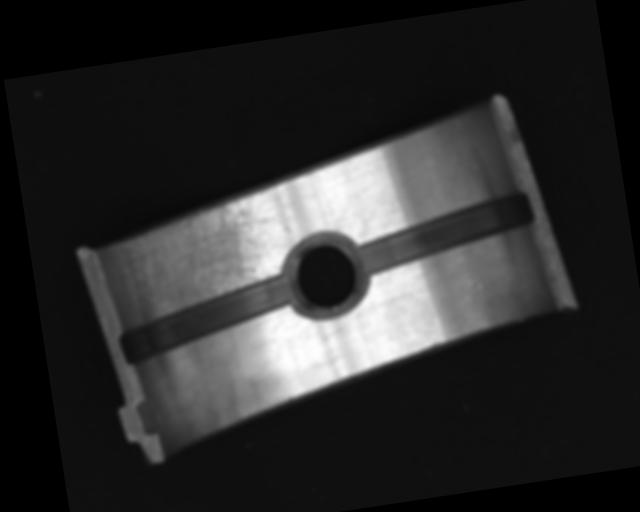gap: (110, 271, 300, 368), (356, 190, 540, 274)
hole: (278, 236, 368, 319)
scratch: (99, 192, 283, 327)
